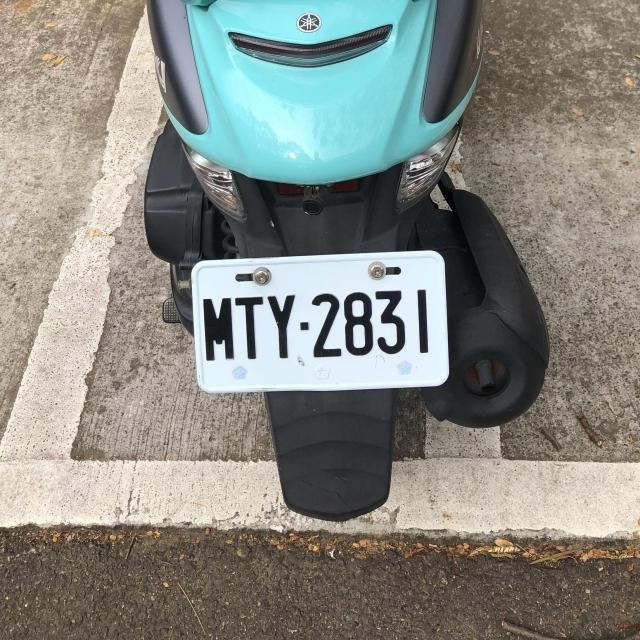W: (189, 250, 447, 392)
